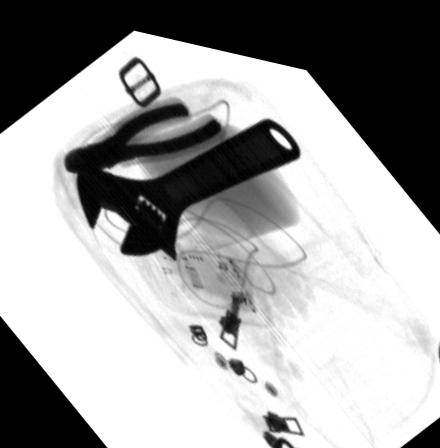Pliers: (63, 96, 224, 172)
Wrench: (74, 105, 300, 256)
